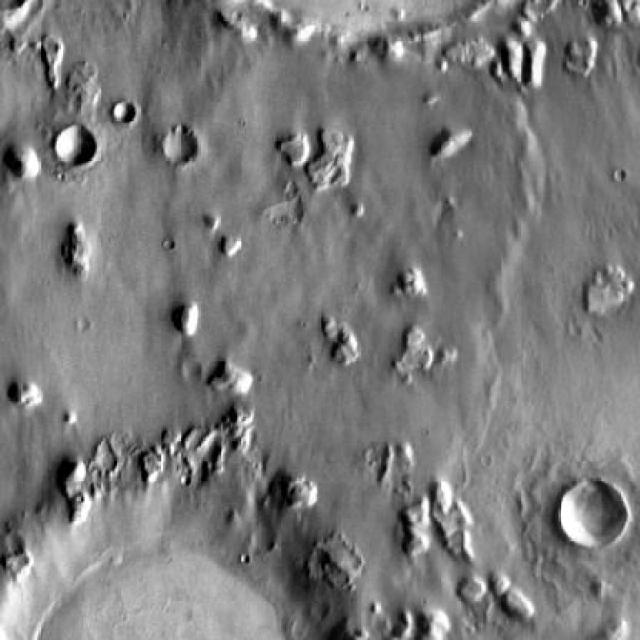crater: (0, 458, 348, 640), (562, 480, 628, 546), (55, 128, 94, 164), (162, 126, 196, 160), (183, 362, 203, 382), (115, 101, 134, 119)
